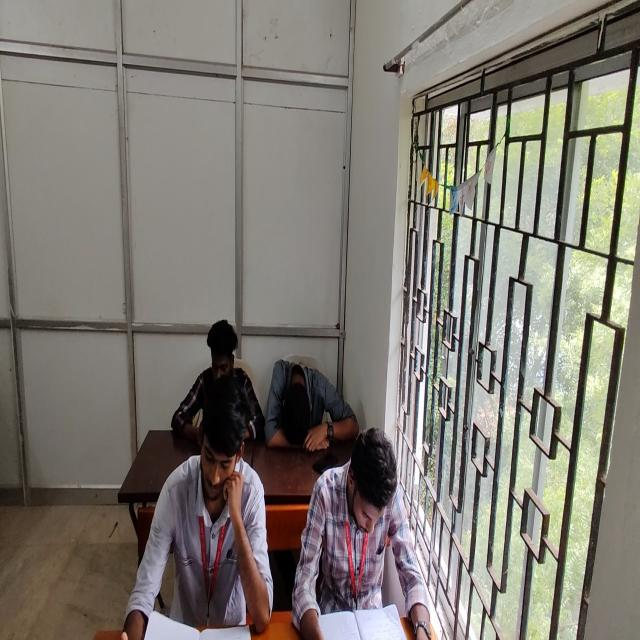reading: (120, 373, 272, 640), (289, 427, 415, 640)
sleeping: (268, 358, 359, 450)
using_mobile: (172, 318, 265, 443)
